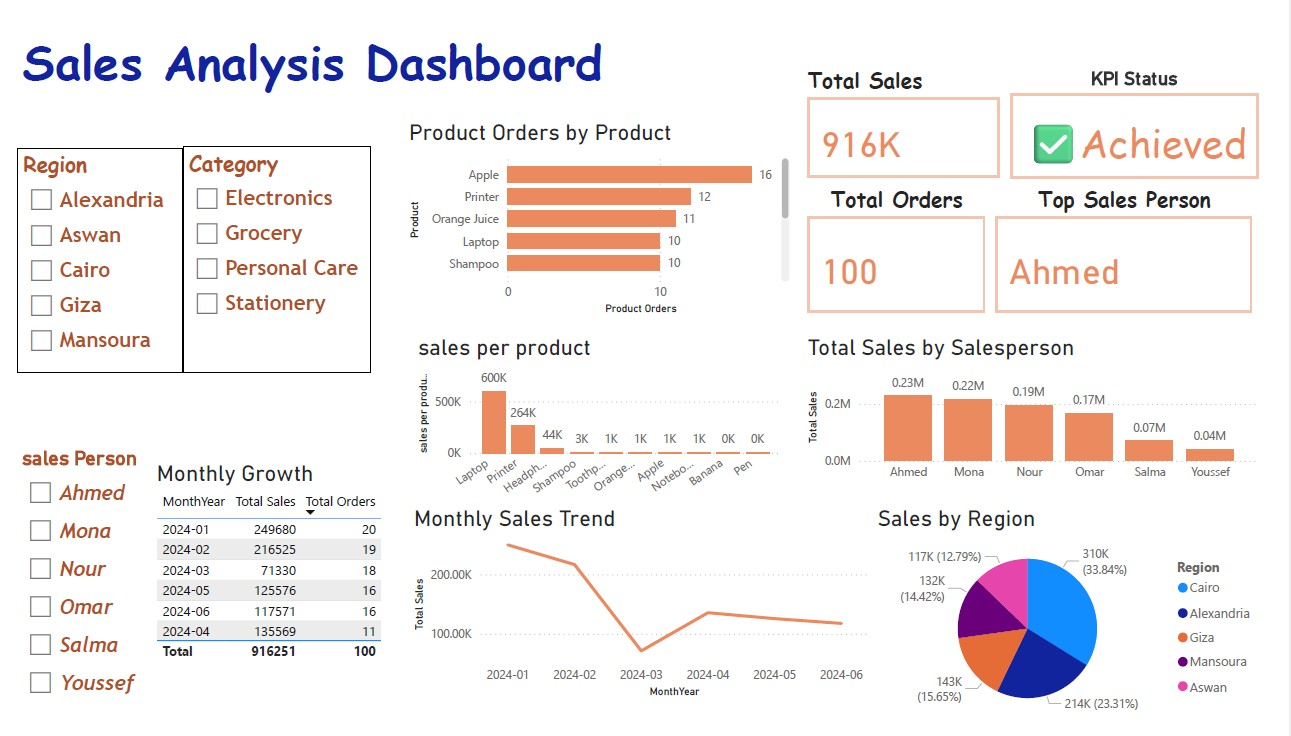

Layout of this report page (visuals, bound fields, positions):
{"tool":"powerbi","page":{"name":"Page 1","canvas":[1280,720],"ordinal":0},"visuals":[{"type":"cardVisual","title":"Total Sales","fields":{"Data":["Sheet1.total sales"]},"box":[806.4,42.1,207.3,121.4],"z":0},{"type":"cardVisual","title":"Total Orders","fields":{"Data":["Sheet1.Total Orders"]},"box":[806.4,163.5,192.7,139.3],"z":1000},{"type":"pieChart","title":"Sales by Region","fields":{"Category":["Sheet1.Region"],"Y":["Sheet1.Sales by Region"]},"box":[877.6,495.5,401.6,225.1],"z":2000},{"type":"tableEx","title":"Monthly Growth ","fields":{"Values":["Sheet1.MonthYear","Sheet1.Total Sales","Sheet1.Total Orders"]},"box":[137.6,448.5,246.1,260.7],"z":3000},{"type":"columnChart","fields":{"Category":["Sheet1.Salesperson"],"Y":["Sheet1.Total Sales"]},"box":[806.4,319,472.8,160.3],"z":4000},{"type":"clusteredBarChart","fields":{"Category":["Sheet1.Product"],"Y":["Sheet1.Product orders"]},"box":[396.7,98.8,399.9,204],"z":5000},{"type":"columnChart","title":"sales per product ","fields":{"Y":["Sheet1.sales per product"],"Category":["Sheet1.Product"]},"box":[406.4,319,382.1,176.5],"z":6000},{"type":"cardVisual","title":"KPI Status","fields":{"Data":["Sheet1.KPI Status"]},"box":[1013.6,45.3,265.6,119.8],"z":7000},{"type":"lineChart","title":"Monthly Sales Trend","fields":{"Category":["Sheet1.Month"],"Y":["Sheet1.Total Sales"]},"box":[401.6,495.5,476.1,200.8],"z":8000},{"type":"textbox","box":[0,0,725.4,82.6],"z":9000},{"type":"cardVisual","title":"Top Sales Person","fields":{"Data":["Sheet1.Top Salesperson"]},"box":[999.1,163.5,273.6,139.3],"z":10000},{"type":"slicer","title":"sales Person","fields":{"Values":["Sheet1.Salesperson"]},"box":[0,434,137.6,286.6],"z":11000},{"type":"slicer","title":"Region","fields":{"Values":["Sheet1.Region"]},"box":[0,127.9,170,231.5],"z":12000},{"type":"slicer","title":"Category","fields":{"Values":["Sheet1.Category"]},"box":[170,126.3,192.7,233.2],"z":12001}]}

Visuals, with their boxes in screenshot pixels (x1, y1, x2, y2), scaled from the page's 1280x720 canvas onto the 1291x736 screenshot:
"Total Sales" cardVisual: BBox(813, 43, 1022, 167)
"Total Orders" cardVisual: BBox(813, 167, 1008, 310)
"Sales by Region" pieChart: BBox(885, 507, 1290, 735)
"Monthly Growth " tableEx: BBox(139, 458, 387, 725)
columnChart - Sheet1.Salesperson x Sheet1.Total Sales: BBox(813, 326, 1290, 490)
clusteredBarChart - Sheet1.Product x Sheet1.Product orders: BBox(400, 101, 803, 310)
"sales per product " columnChart: BBox(410, 326, 795, 507)
"KPI Status" cardVisual: BBox(1022, 46, 1290, 169)
"Monthly Sales Trend" lineChart: BBox(405, 507, 885, 712)
textbox: BBox(0, 0, 732, 84)
"Top Sales Person" cardVisual: BBox(1008, 167, 1284, 310)
"sales Person" slicer: BBox(0, 444, 139, 735)
"Region" slicer: BBox(0, 131, 171, 367)
"Category" slicer: BBox(171, 129, 366, 367)
